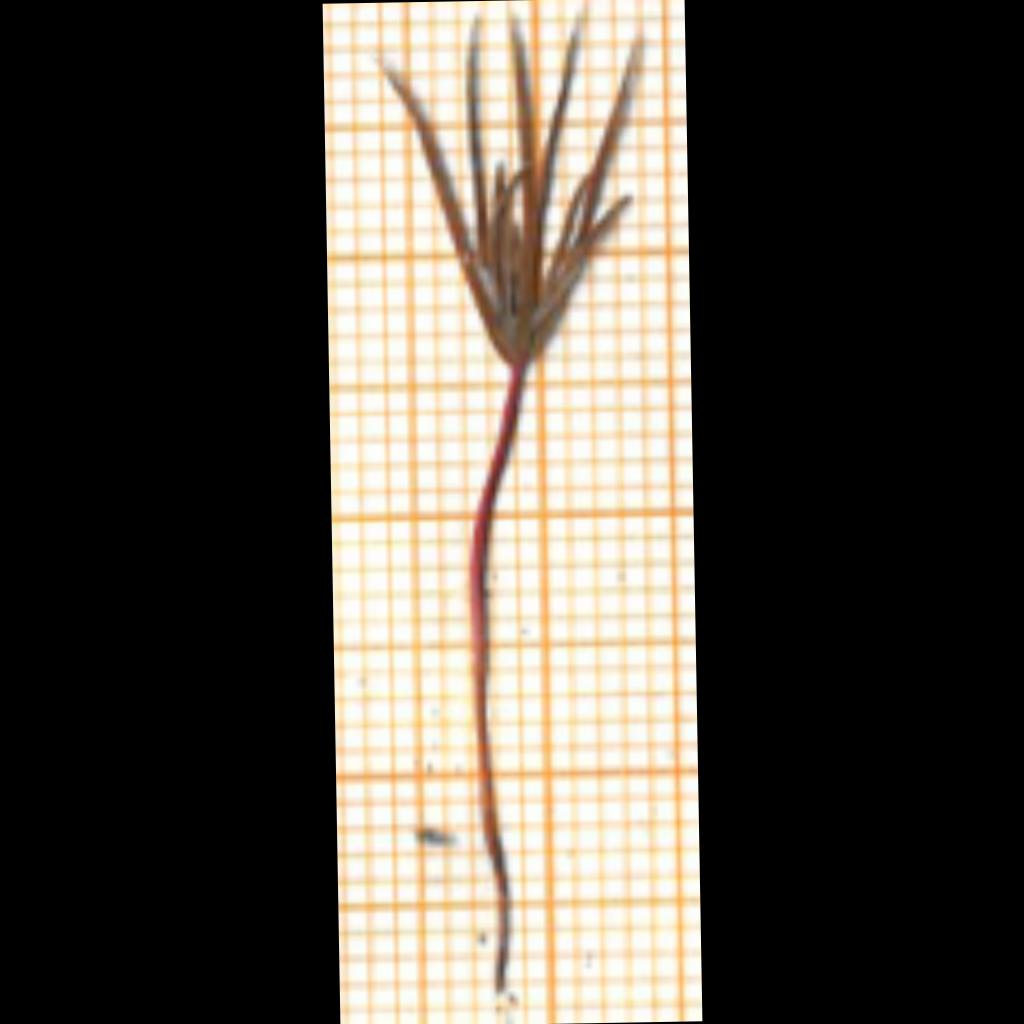flowerPinus: (384, 19, 640, 367)
rootPinus: (484, 837, 513, 992)
stemPinus: (470, 368, 526, 832)
